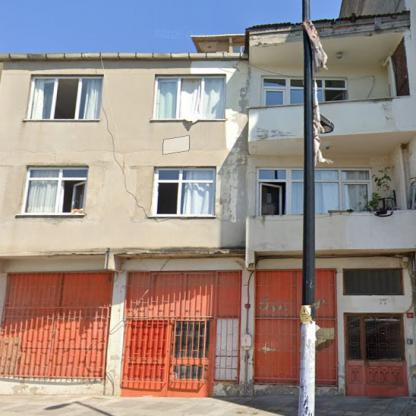door: (168, 320, 214, 396), (366, 314, 406, 396)
window: (28, 77, 102, 119), (20, 168, 88, 213), (154, 77, 224, 119), (152, 169, 214, 215), (315, 170, 369, 210), (259, 169, 303, 214), (346, 270, 400, 293), (261, 78, 303, 105), (315, 79, 346, 103), (347, 317, 363, 359)
